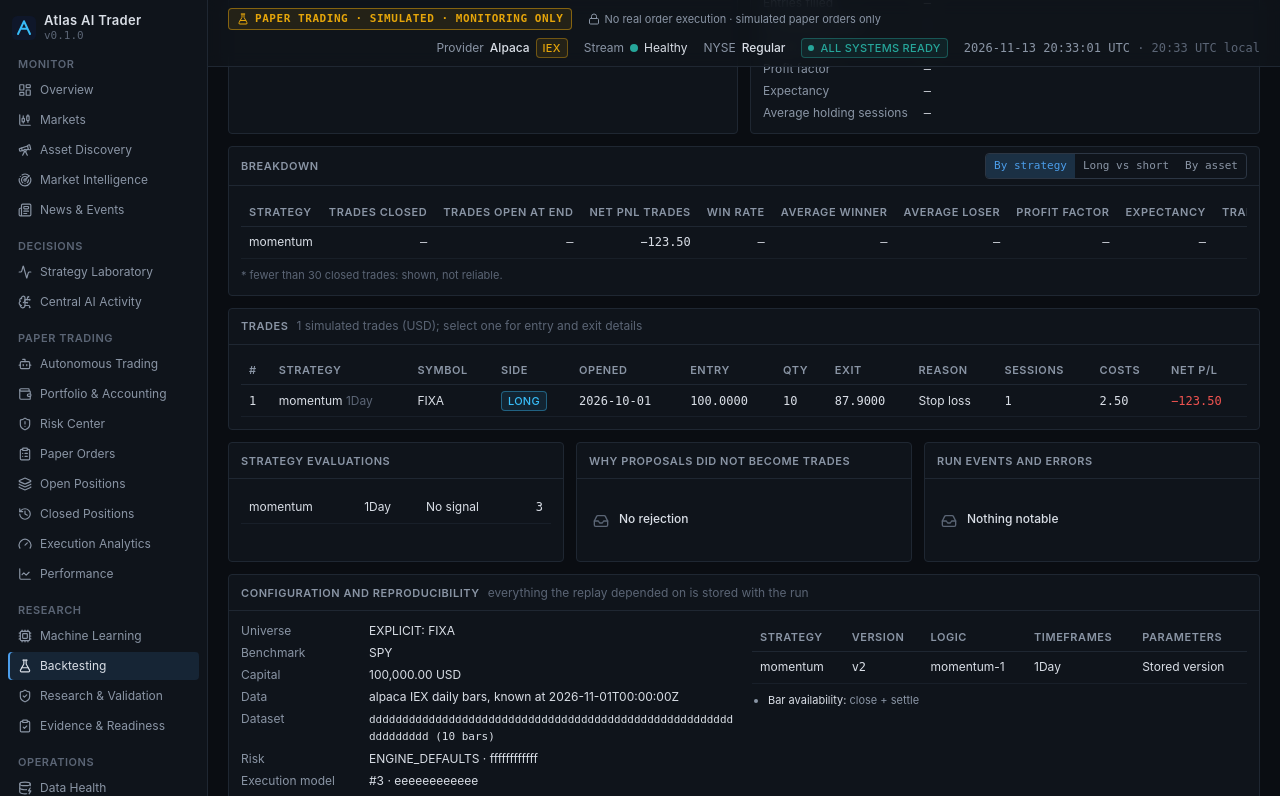
Test: backtest detail page › shows the stored metrics honestly, the charts, the benchmark and trade details
The width and height of the screenshot is (1280, 796).
(page scrolled)
Click the text "FIXA": [451, 400] box [409, 384, 493, 416]
(page scrolled)
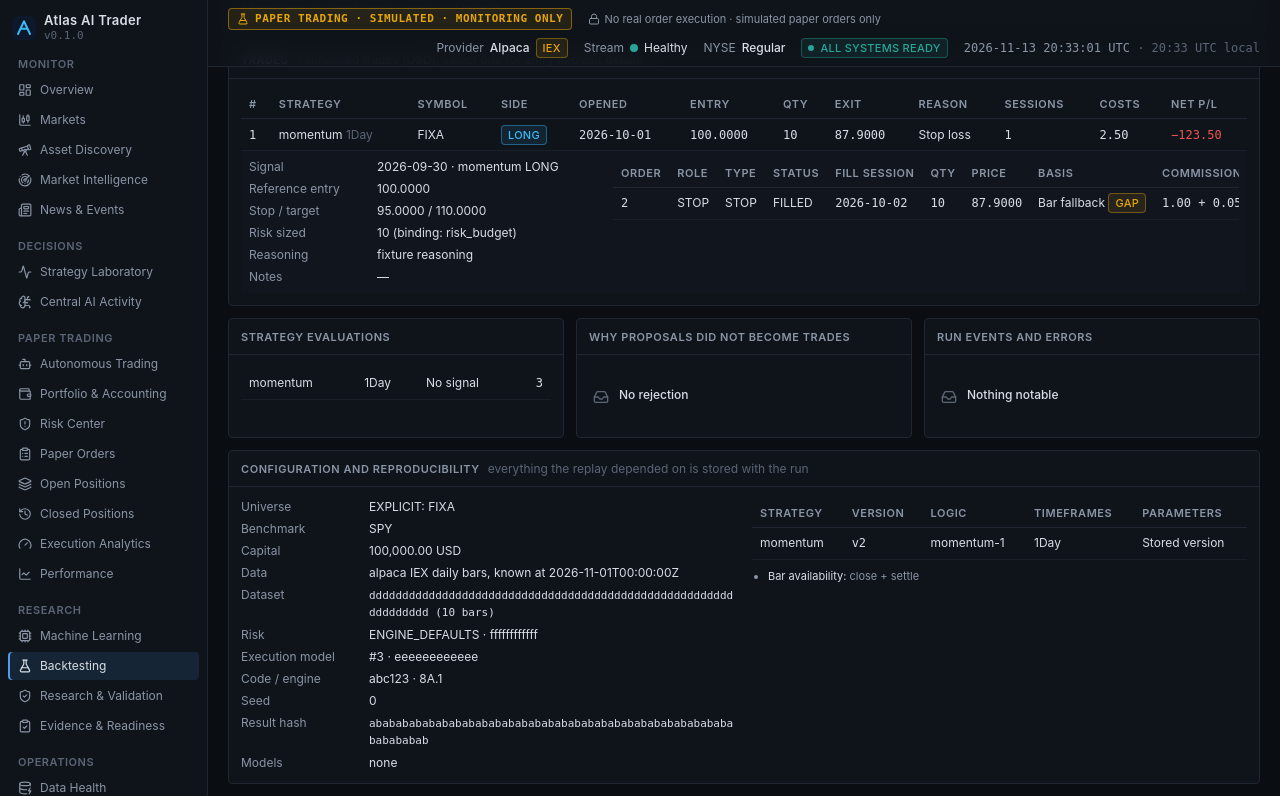
Now the text "87.9000" next to "Bar fallback" is shown, box [972, 196, 1022, 210]
Now the text "gap" is shown, box [1108, 193, 1146, 213]
Now the text "fixture reasoning" is shown, box [377, 247, 473, 262]
